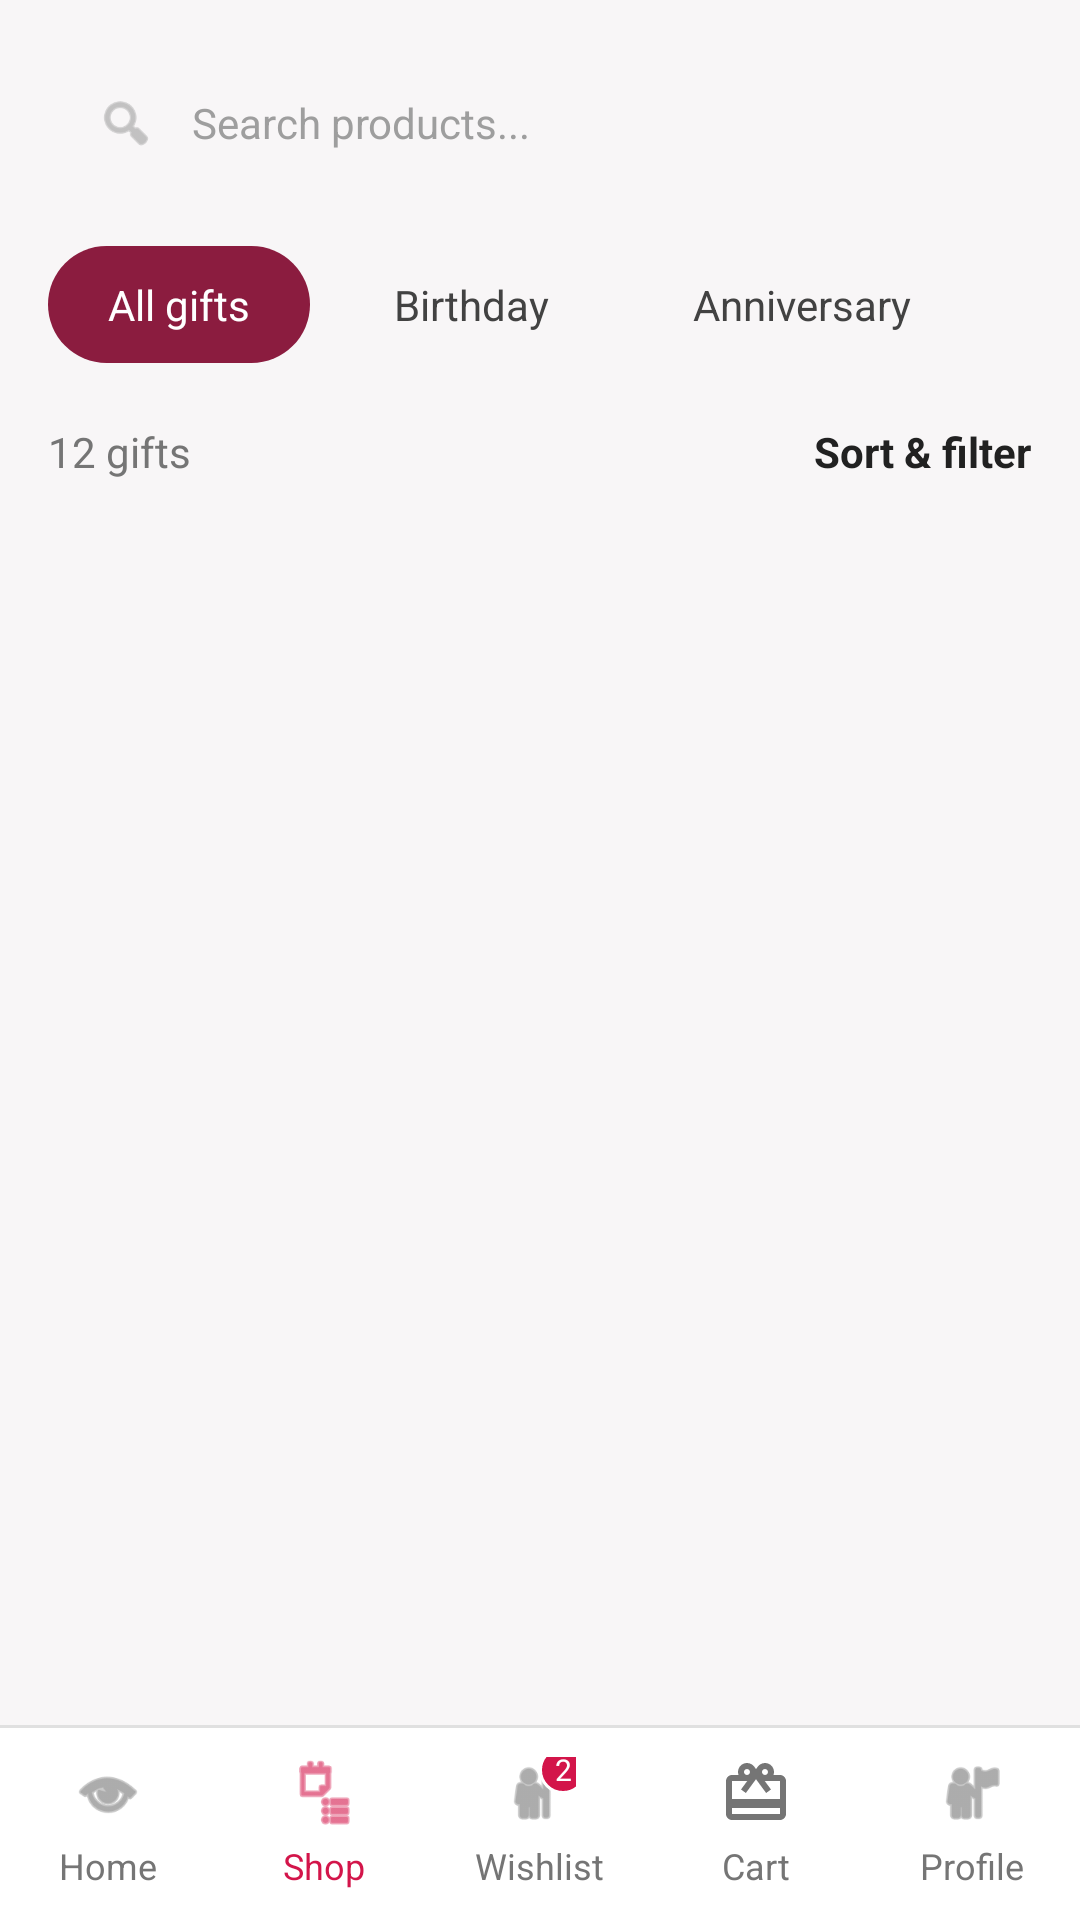

Icon bounding boxes for this 1080 × 1920 phone screenshot, format (x1, y1, x2, y2):
agenda: (299, 1761, 350, 1825)
gift: (726, 1763, 786, 1820)
myplaces: (514, 1757, 576, 1820), (946, 1766, 1000, 1820)
view: (79, 1777, 137, 1813)
